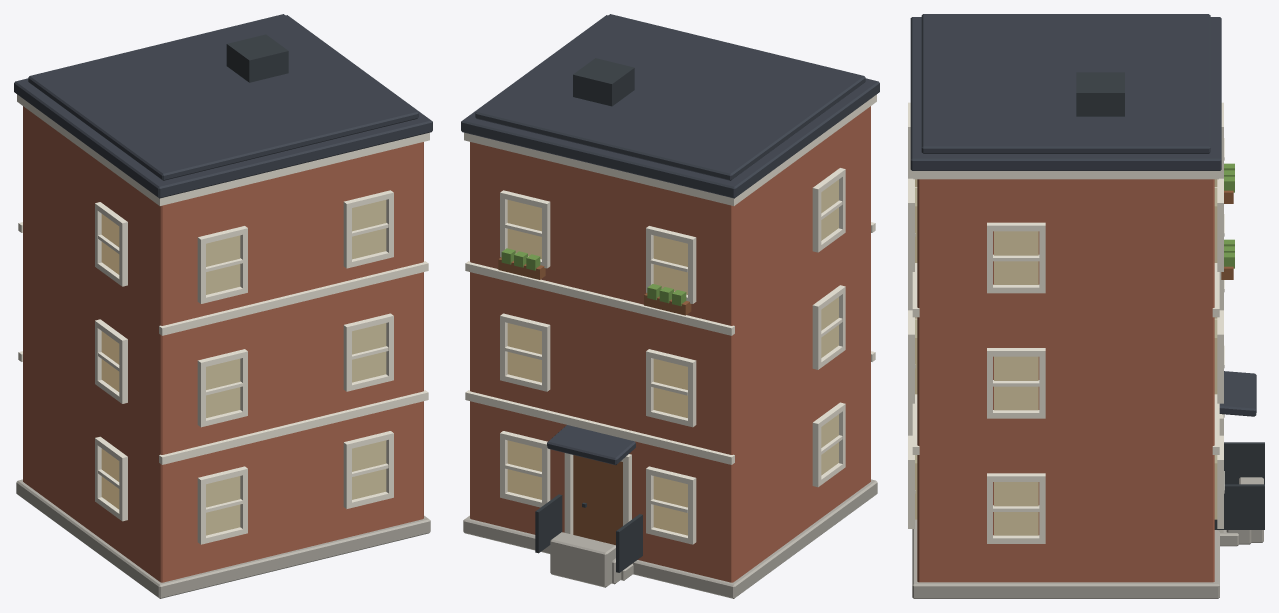
File: townhouse_brick.glb
3 views of the same model, side by side, from view 1: azimuth 30°, elevation 25°; view 2: azimuth 150°, elevation 25°; view 3: azimuth 270°, elevation 25° (orthographic). The views are drawn at different scales.
Visible parts, largest first — view 1: Building_Townhouse_Brick_Brick, Building_Townhouse_Brick_Roof_Dark, Building_Townhouse_Brick_Trim, Building_Townhouse_Brick_Glass, Building_Townhouse_Brick_Concrete, Building_Townhouse_Brick_Metal; view 2: Building_Townhouse_Brick_Brick, Building_Townhouse_Brick_Roof_Dark, Building_Townhouse_Brick_Trim, Building_Townhouse_Brick_Glass, Building_Townhouse_Brick_Concrete, Building_Townhouse_Brick_Wood, Building_Townhouse_Brick_Metal, Building_Townhouse_Brick_Roof, Building_Townhouse_Brick_Green; view 3: Building_Townhouse_Brick_Brick, Building_Townhouse_Brick_Roof_Dark, Building_Townhouse_Brick_Trim, Building_Townhouse_Brick_Glass, Building_Townhouse_Brick_Concrete, Building_Townhouse_Brick_Metal, Building_Townhouse_Brick_Roof, Building_Townhouse_Brick_Green.
Boxes of the visible parts, <box> form: Building_Townhouse_Brick_Brick: <box>23,106,423,582</box>; Building_Townhouse_Brick_Roof_Dark: <box>14,14,432,198</box>; Building_Townhouse_Brick_Trim: <box>17,94,429,544</box>; Building_Townhouse_Brick_Glass: <box>101,200,386,535</box>; Building_Townhouse_Brick_Concrete: <box>16,479,430,598</box>; Building_Townhouse_Brick_Metal: <box>226,34,288,82</box>; Building_Townhouse_Brick_Brick: <box>470,106,870,582</box>; Building_Townhouse_Brick_Roof_Dark: <box>461,14,879,198</box>; Building_Townhouse_Brick_Trim: <box>464,94,876,544</box>; Building_Townhouse_Brick_Glass: <box>507,179,838,535</box>; Building_Townhouse_Brick_Concrete: <box>463,479,877,598</box>; Building_Townhouse_Brick_Wood: <box>498,257,691,545</box>; Building_Townhouse_Brick_Metal: <box>535,58,642,572</box>; Building_Townhouse_Brick_Roof: <box>547,425,635,465</box>; Building_Townhouse_Brick_Green: <box>501,248,686,306</box>; Building_Townhouse_Brick_Brick: <box>917,179,1214,582</box>; Building_Townhouse_Brick_Roof_Dark: <box>910,14,1221,170</box>; Building_Townhouse_Brick_Trim: <box>908,102,1224,543</box>; Building_Townhouse_Brick_Glass: <box>915,179,1217,535</box>; Building_Townhouse_Brick_Concrete: <box>912,477,1263,598</box>; Building_Townhouse_Brick_Metal: <box>1076,72,1264,529</box>; Building_Townhouse_Brick_Roof: <box>1219,371,1256,416</box>; Building_Townhouse_Brick_Green: <box>1224,163,1234,268</box>.
Bounding box in the file's own units: 4.94 × 7.54 × 5.16.
